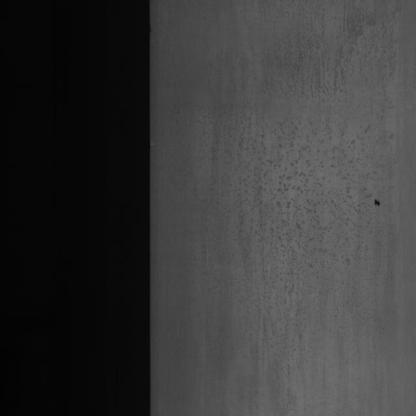inclusion: (366, 178, 382, 217)
silk_spot: (215, 48, 361, 337)
